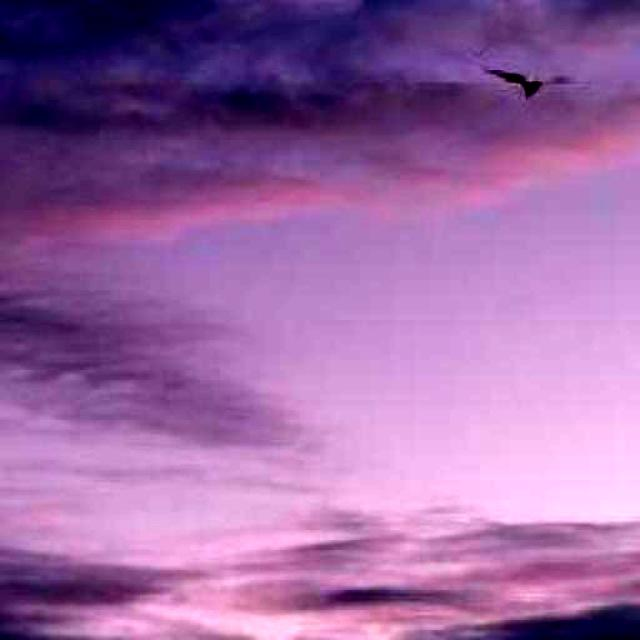airplane: (484, 65, 592, 99)
